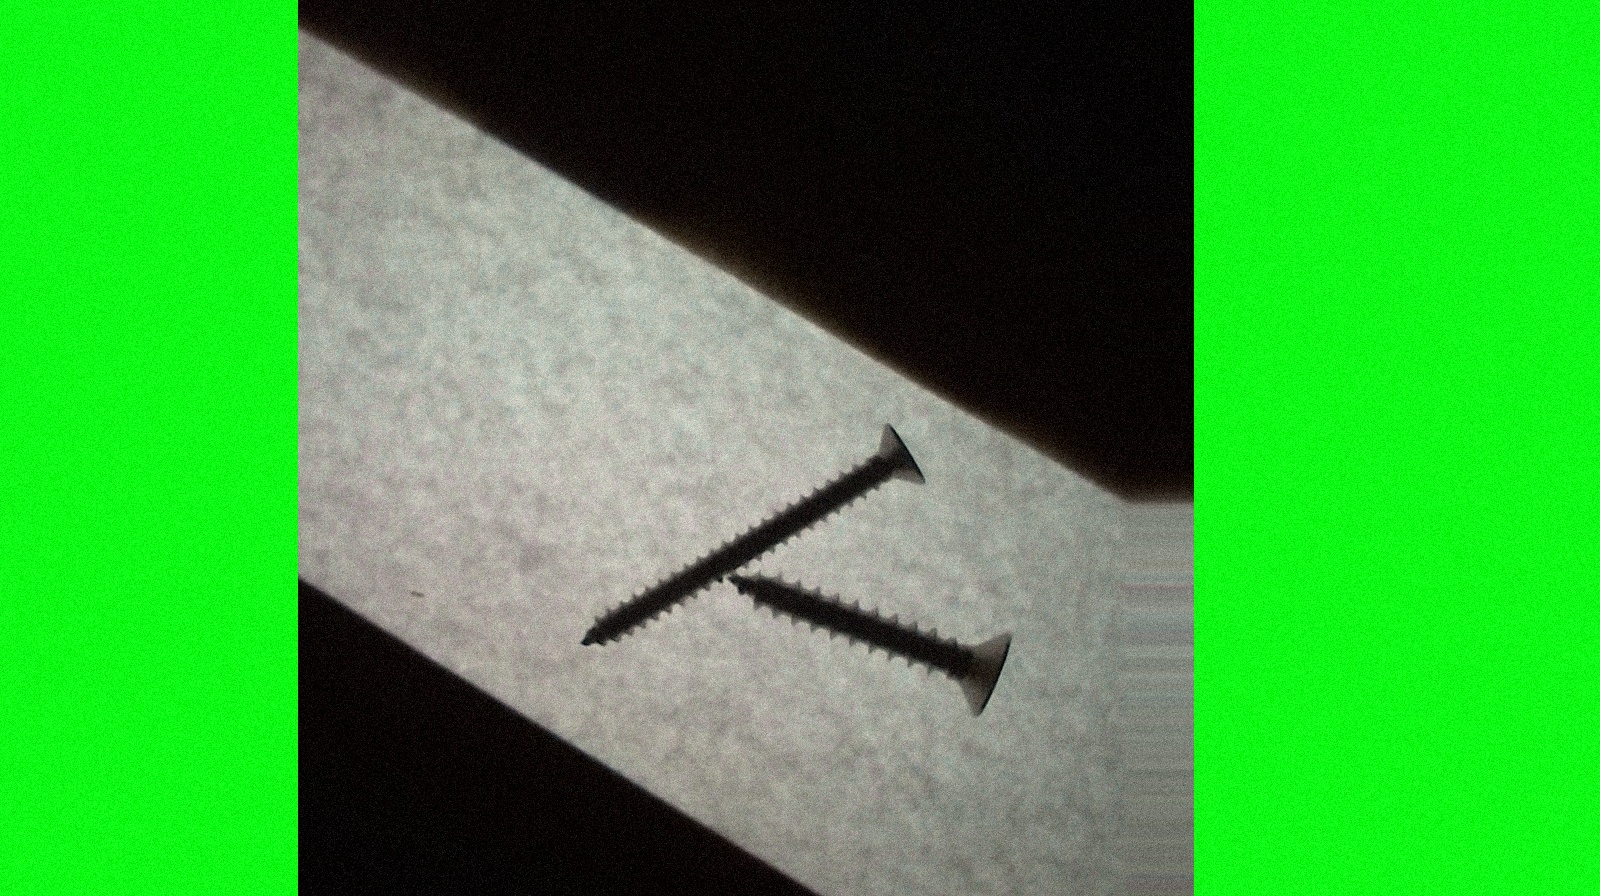S001: (720, 579, 1012, 719)
S002: (575, 417, 926, 648)
